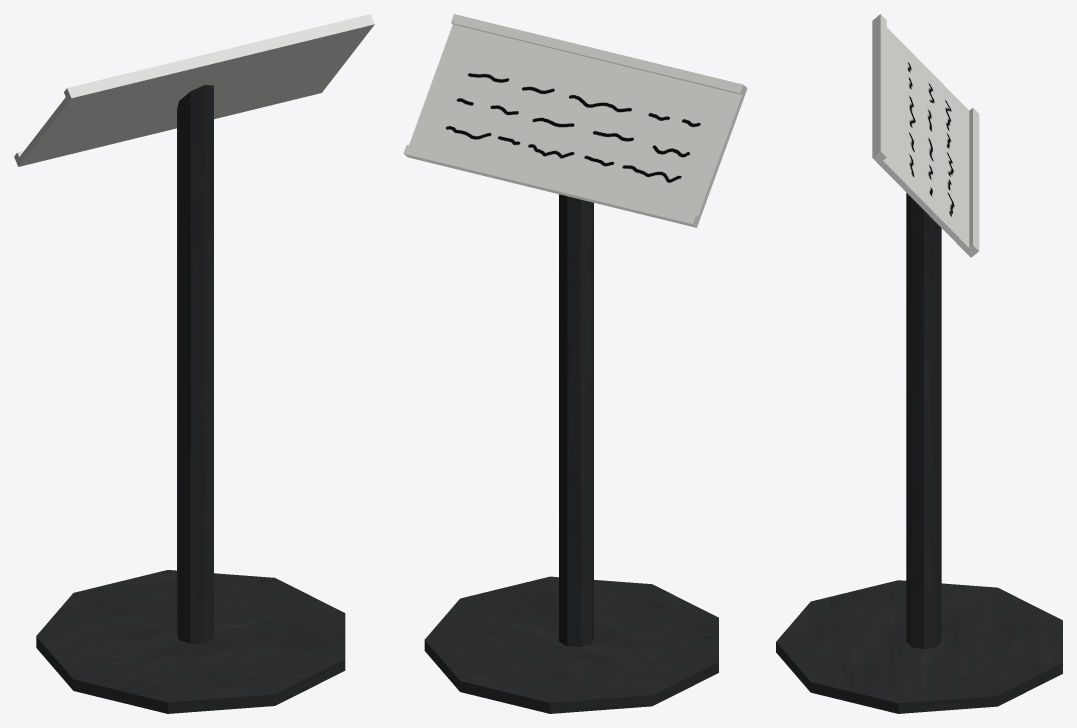
The model's file is Props_StandingPlacard.fbx.
The picture shows the model from 3 angles, left to right: view 1: azimuth 30°, elevation 25°; view 2: azimuth 150°, elevation 25°; view 3: azimuth 270°, elevation 25°; orthographic projection. The views are drawn at different scales.
Visible parts, largest first — view 1: Props_StandingPlacardBase, Props_StandingPlacard1; view 2: Props_StandingPlacard1, Props_StandingPlacardBase; view 3: Props_StandingPlacardBase, Props_StandingPlacard1.
Part boxes in pixels (x1,y1,x2,y2): Props_StandingPlacardBase: [36, 85, 345, 713]; Props_StandingPlacard1: [14, 14, 374, 166]; Props_StandingPlacard1: [403, 14, 747, 227]; Props_StandingPlacardBase: [424, 194, 718, 713]; Props_StandingPlacardBase: [776, 193, 1062, 713]; Props_StandingPlacard1: [872, 14, 979, 257].
Bounding box in the file's own units: 55 × 106 × 48.49.
Materials: 2 (2 with a texture image).
